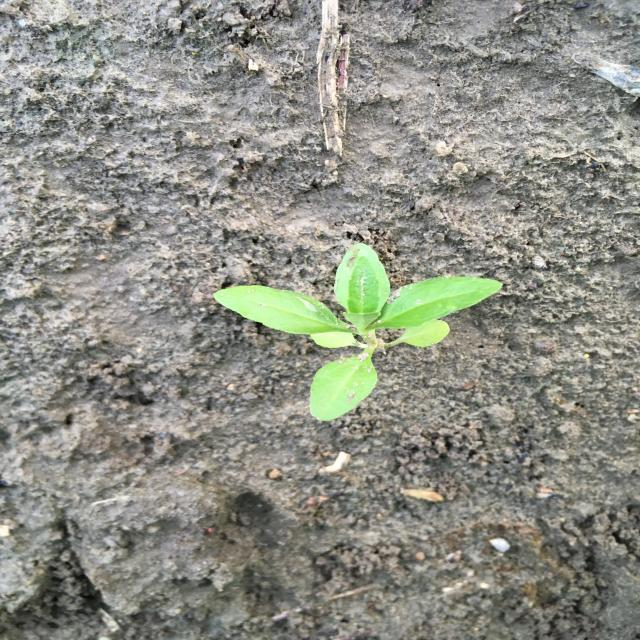Eclipta: (210, 241, 505, 424)
